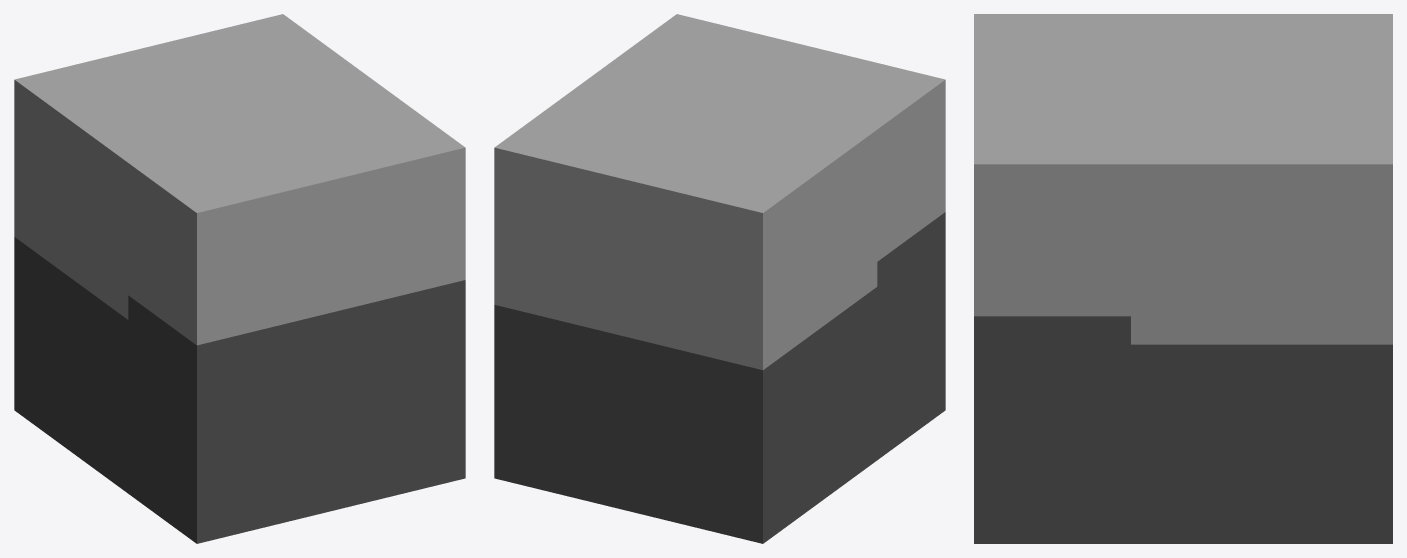
The model's file is cockpit.obj.
3 renders of one model, left to right at view 1: azimuth 30°, elevation 25°; view 2: azimuth 150°, elevation 25°; view 3: azimuth 270°, elevation 25°, orthographic. The views are drawn at different scales.
Bounding box in the file's own units: 3.4 × 4 × 4.
1 material, 1 textured.
